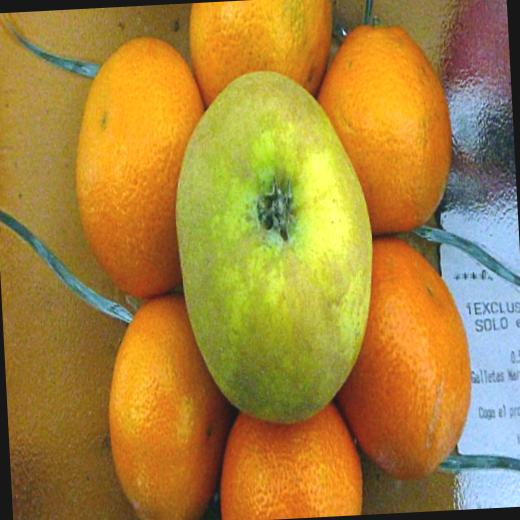Grape: (330, 237, 480, 486), (69, 40, 210, 299), (314, 27, 462, 230), (102, 302, 231, 520), (218, 409, 362, 520), (187, 0, 342, 99)
